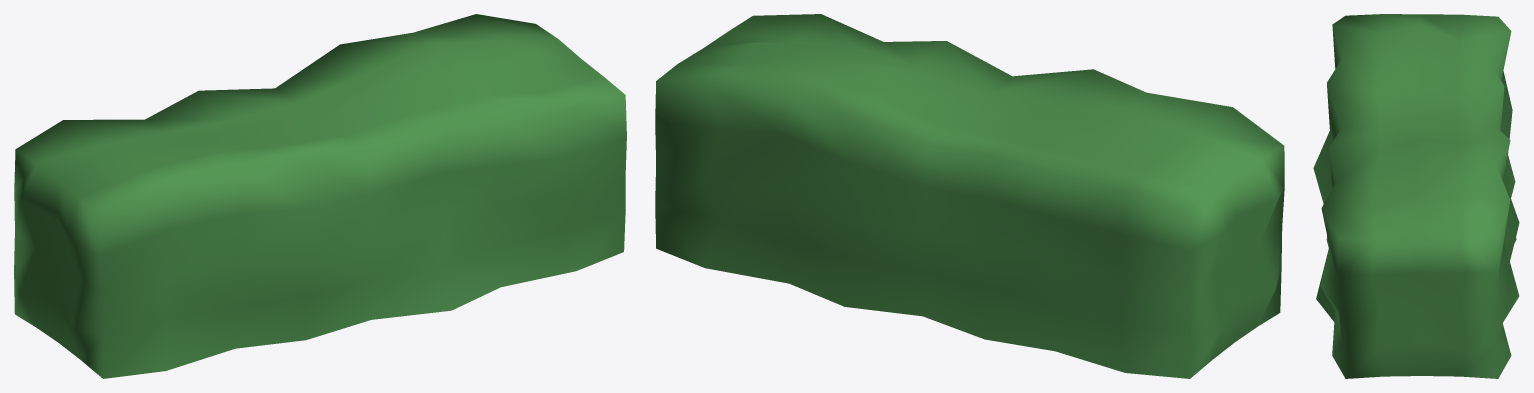
File: hedge.fbx
The picture shows the model from 3 angles, left to right: view 1: azimuth 30°, elevation 25°; view 2: azimuth 150°, elevation 25°; view 3: azimuth 270°, elevation 25°; orthographic projection. The views are drawn at different scales.
Parts seen in each view (by area): view 1: HEDGE; view 2: HEDGE; view 3: HEDGE.
Part boxes in pixels (x1,y1,x2,y2): HEDGE: [14, 14, 626, 378]; HEDGE: [655, 14, 1284, 378]; HEDGE: [1313, 14, 1519, 378].
Size of the model in its own units: 3.6 by 1.19 by 1.35.
